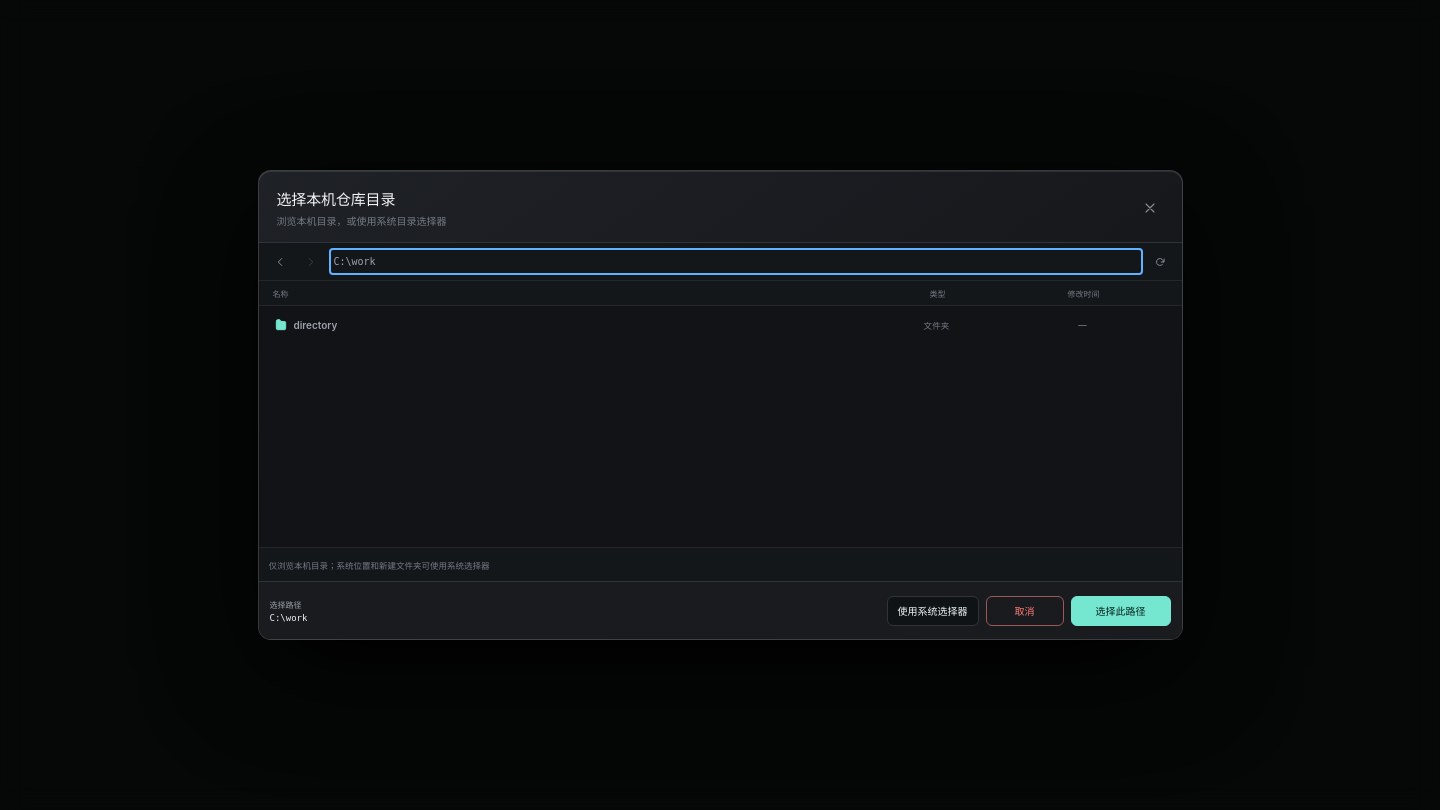
Test: GitRepositoryPickerDialog › reuses the picker shell for local directories, filters files, and opens local roots
expect the dialog "选择本机仓库目录" is shown: met, box [258, 170, 1182, 640]
expect the list item with aria-label "目录 directory" is shown: met, box [266, 311, 1174, 339]
Click the button named "返回上级目录" at [280, 262], box [266, 248, 294, 275]
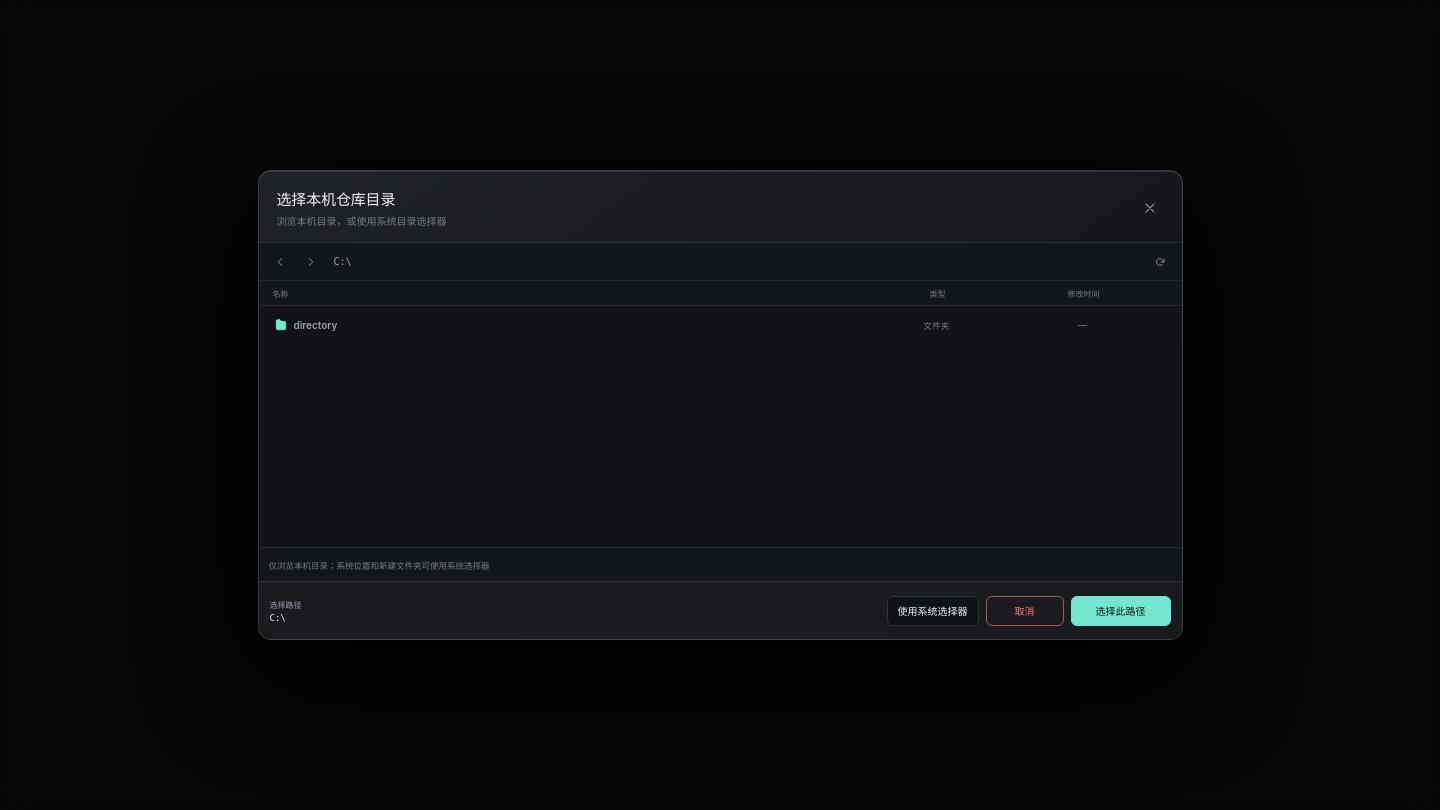
Click the button named "返回上级目录" at [280, 262], box [266, 248, 294, 275]
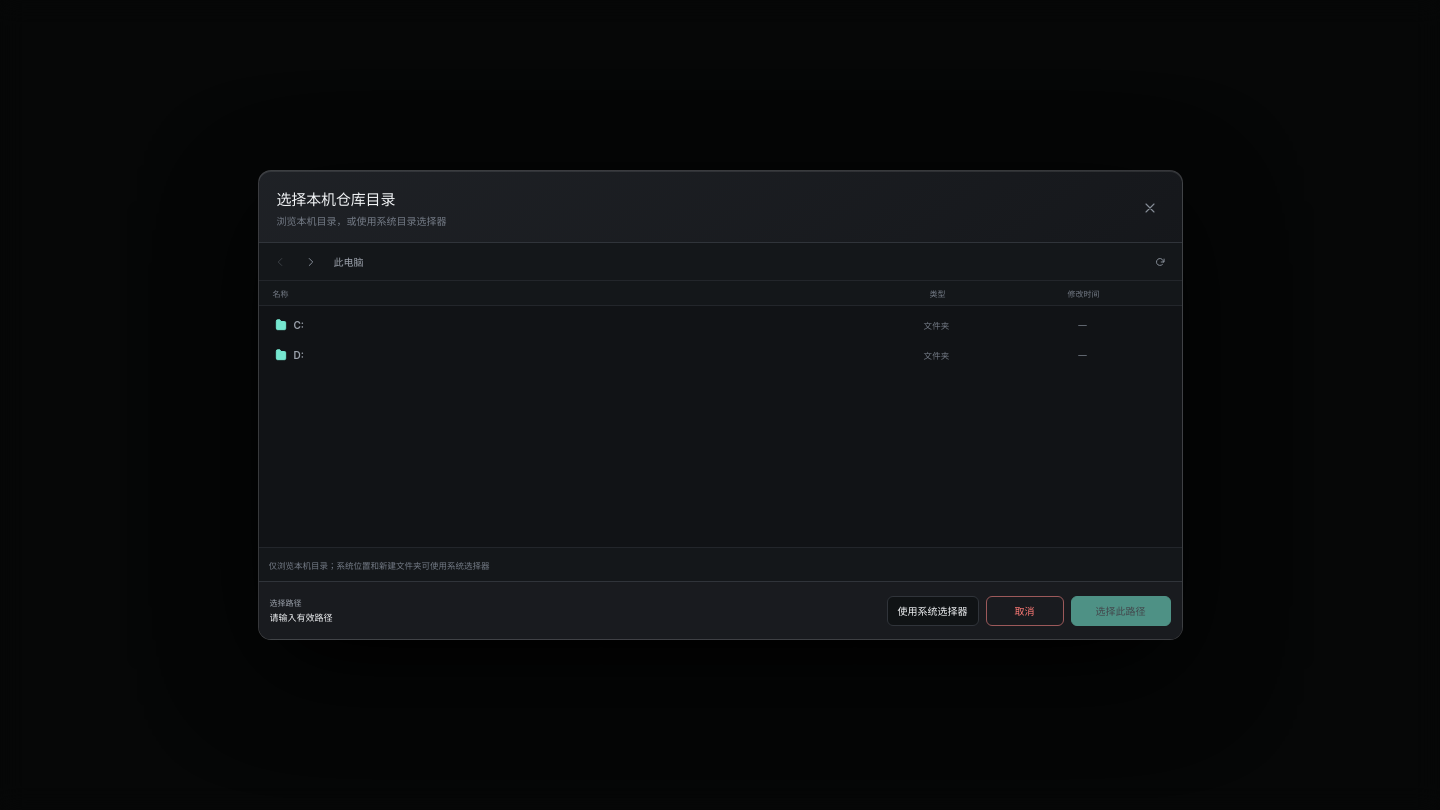
expect the list named "本机根目录" is shown: met, box [258, 306, 1182, 376]
expect the list item with aria-label "目录 D:" is shown: met, box [266, 341, 1174, 369]
